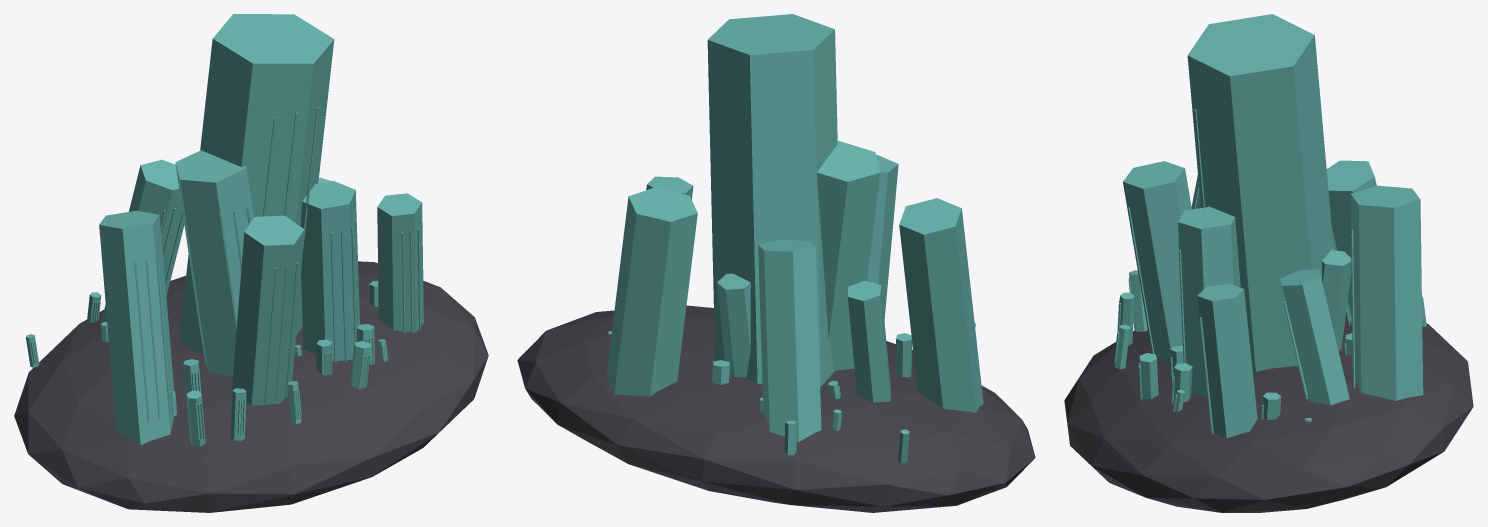
The model's file is beryl.glb.
The picture shows the model from 3 angles, left to right: view 1: azimuth 30°, elevation 25°; view 2: azimuth 150°, elevation 25°; view 3: azimuth 270°, elevation 25°; orthographic projection. The views are drawn at different scales.
Parts seen in each view (by area): view 1: Beryl; view 2: Beryl; view 3: Beryl.
Boxes of the visible parts, x1=… form: Beryl: x1=14, y1=14, x2=488, y2=512; Beryl: x1=517, y1=14, x2=1035, y2=512; Beryl: x1=1064, y1=14, x2=1473, y2=512.
Bounding box in the file's own units: 3.96 × 3.52 × 3.03.
